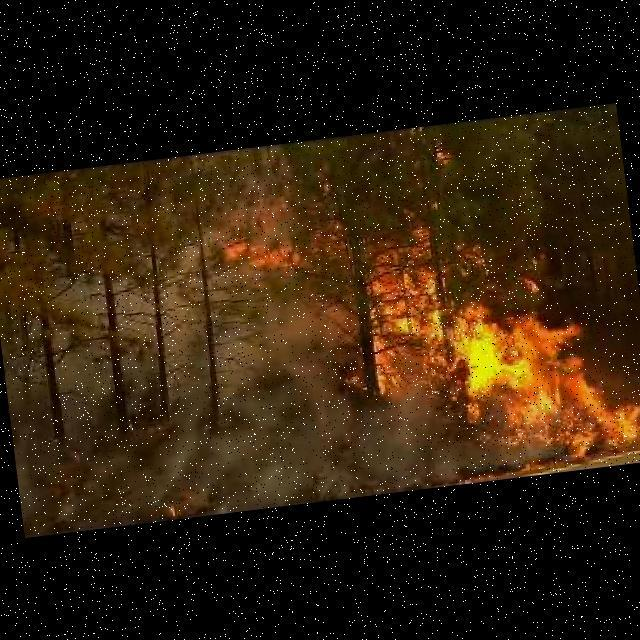Fire: (363, 211, 640, 476)
